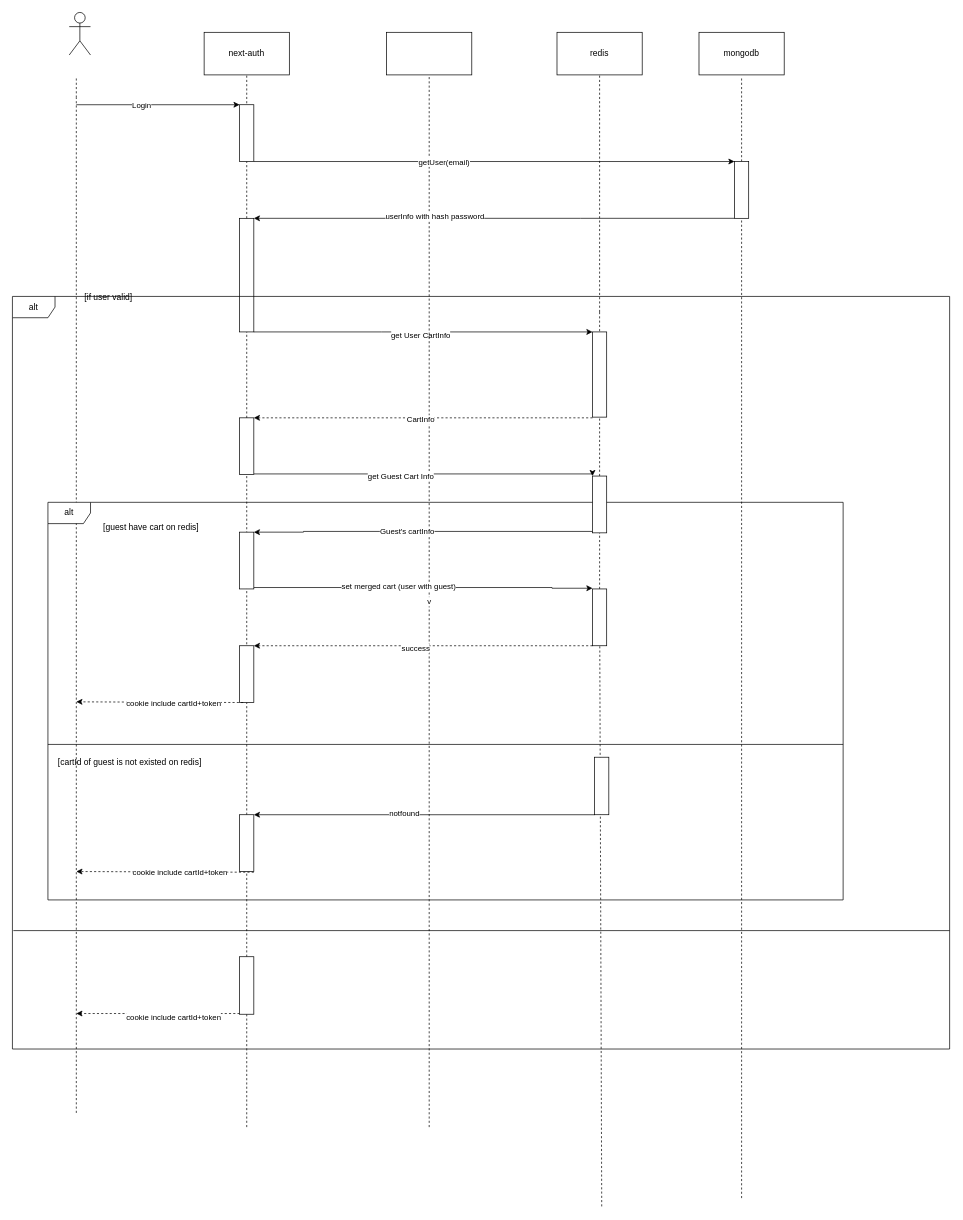
The diagram is 963 pixels wide and 1220 high, and some of its shapes have lost their labels. Each missing label, with the centre of its shape:
Customer: pixel 80 33
grapthql: pixel 429 53
